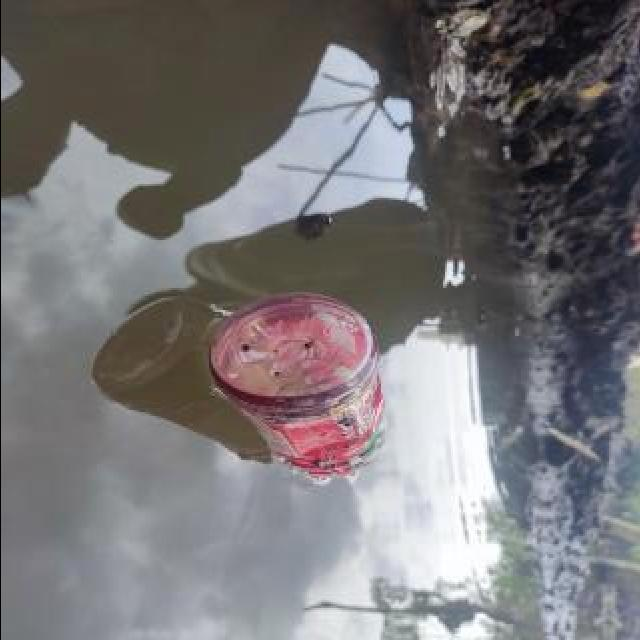Bottle: (198, 286, 393, 493)
